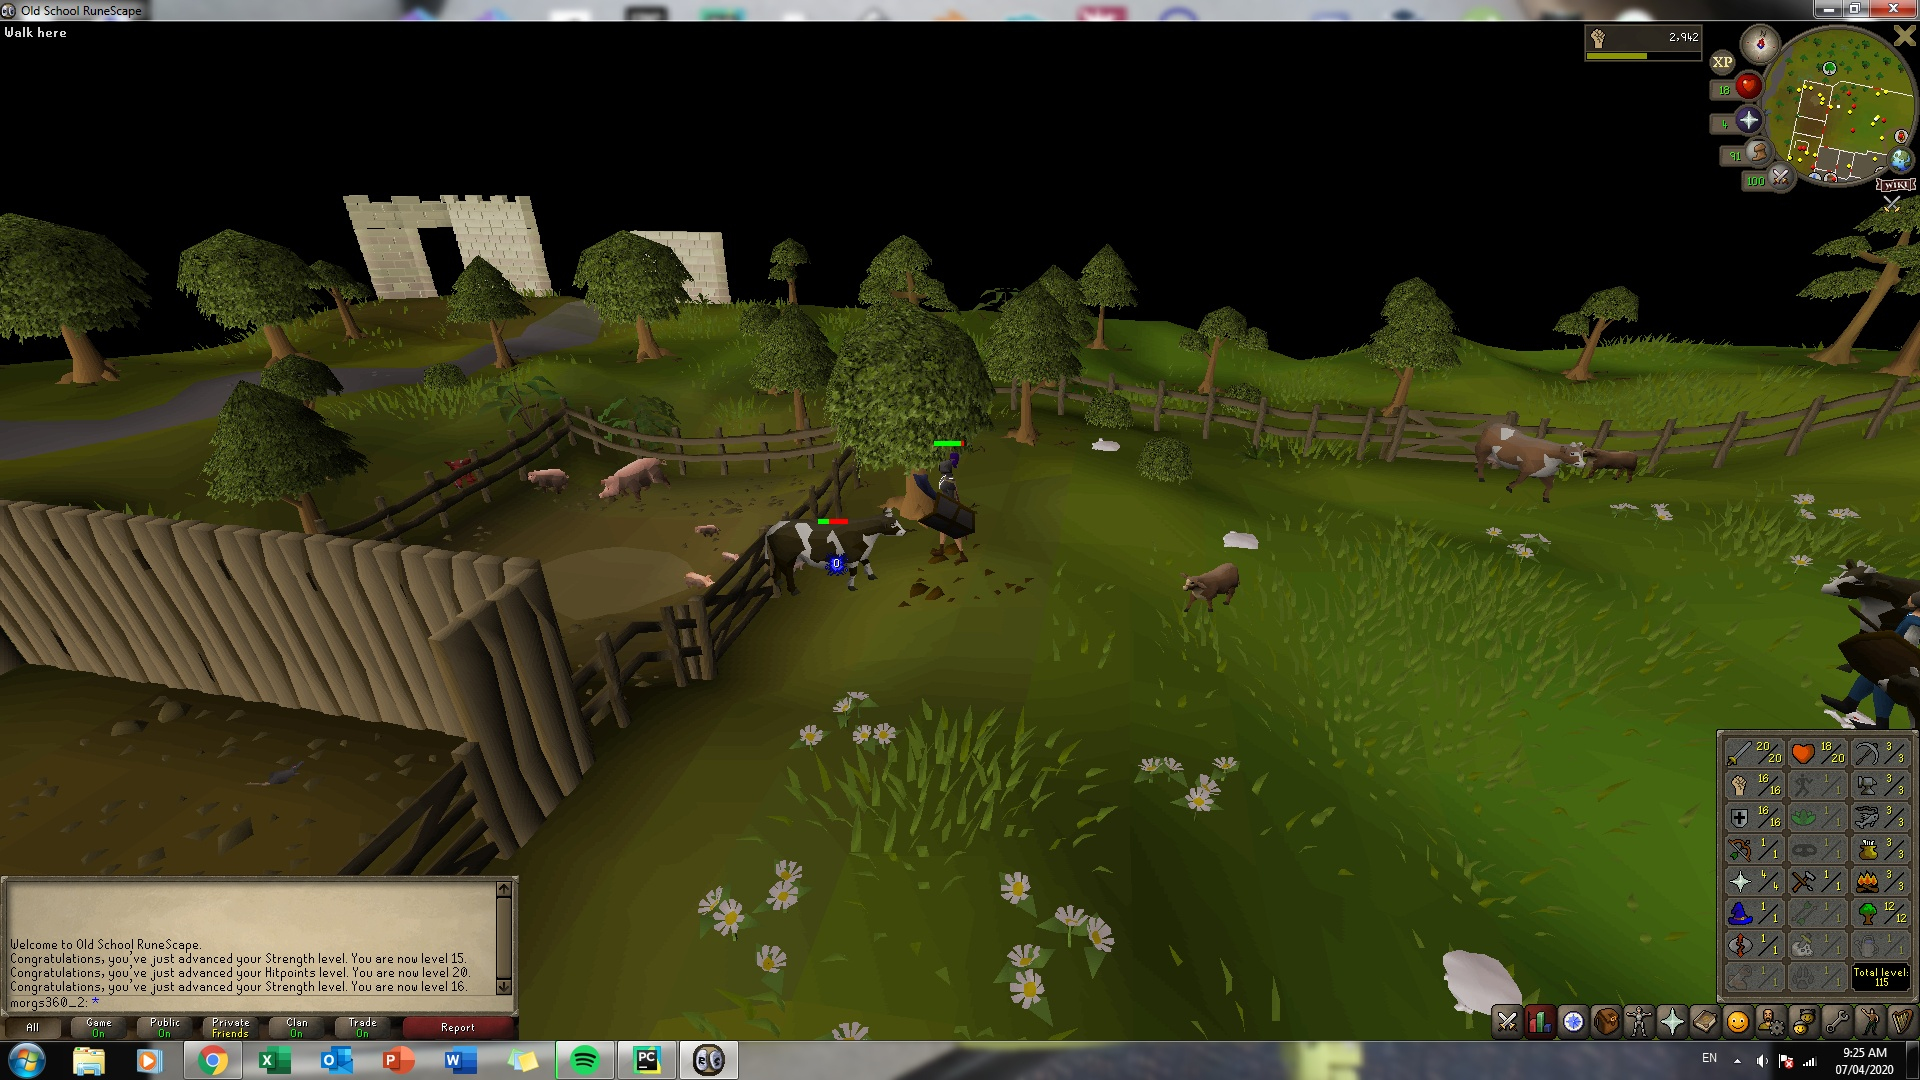cow: (761, 512, 907, 600), (1473, 415, 1584, 502), (1818, 556, 1919, 632)
